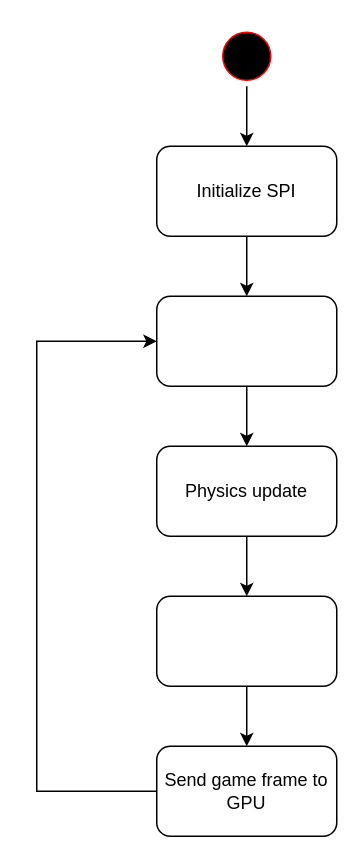
The diagram is 363 pixels wide and 863 high, and some of its shapes have lost their labels. The shapes that lost their labels are listed below. From the top down, each one's centre as x and y in pixels, then its label:
At [246,340]: "Poll input controllers".
At [246,640]: "Game logic".
